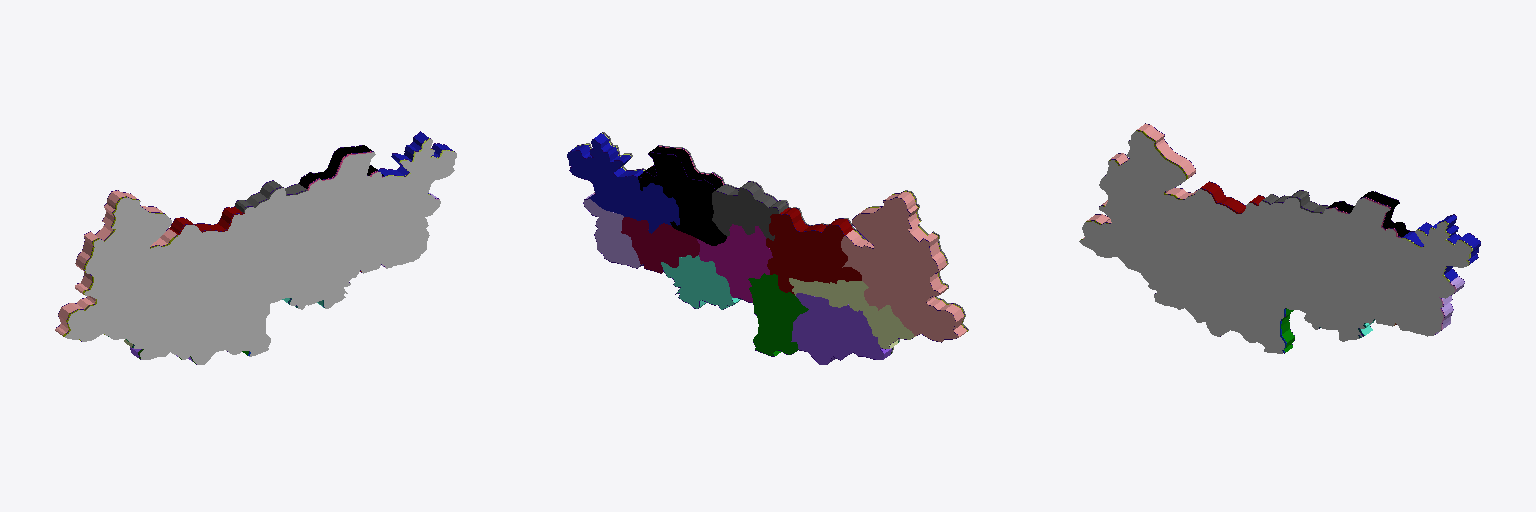
The model's file is deqing09.obj.
The picture shows the model from 3 angles: view 1: azimuth 30°, elevation 25°; view 2: azimuth 150°, elevation 25°; view 3: azimuth 330°, elevation 25°; orthographic projection.
Visible parts, largest first — view 1: texture, [number redacted]_bottom, [number redacted]_bottom, [number redacted]_bottom, [number redacted]_bottom, [number redacted]_bottom; view 2: [number redacted]_bottom, [number redacted]_bottom, [number redacted]_bottom, [number redacted]_bottom, [number redacted]_bottom, [number redacted]_bottom, [number redacted]_bottom, [number redacted]_bottom, [number redacted]_bottom, [number redacted]_bottom, [number redacted]_bottom, [number redacted]_bottom (+1 smaller); view 3: texture, [number redacted]_bottom, [number redacted]_bottom, [number redacted]_bottom.
Part boxes in pixels (x1,y1,x2,y2): texture: (65,139,456,364); [number redacted]_bottom: (55,190,176,335); [number redacted]_bottom: (299,145,383,188); [number redacted]_bottom: (378,132,452,193); [number redacted]_bottom: (235,181,306,211); [number redacted]_bottom: (169,207,242,233); [number redacted]_bottom: (841,192,966,341); [number redacted]_bottom: (766,208,861,294); [number redacted]_bottom: (567,133,679,233); [number redacted]_bottom: (791,293,891,364); [number redacted]_bottom: (638,146,726,245); [number redacted]_bottom: (697,224,772,302); [number redacted]_bottom: (748,273,808,355); [number redacted]_bottom: (789,278,915,348); [number redacted]_bottom: (712,182,786,240); [number redacted]_bottom: (621,217,699,273); [number redacted]_bottom: (661,255,741,309); [number redacted]_bottom: (583,194,642,267); texture: (1079,131,1470,353); [number redacted]_bottom: (1083,124,1197,238); [number redacted]_bottom: (1403,215,1480,281); [number redacted]_bottom: (1328,191,1410,236).
Bounding box in the file's own units: 84.24 × 39.01 × 3.69.